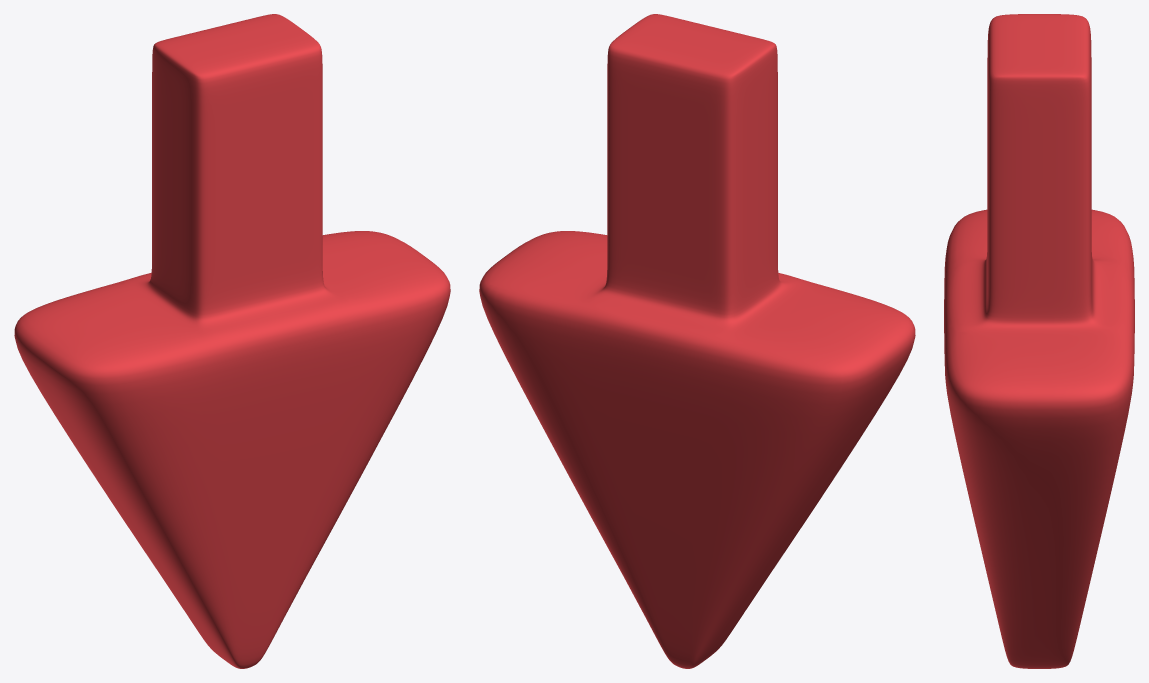
Rendered from Arrow_Visual Indicator.fbx.
3 renders of one model, left to right at view 1: azimuth 30°, elevation 25°; view 2: azimuth 150°, elevation 25°; view 3: azimuth 270°, elevation 25°, orthographic.
Parts seen in each view (by area): view 1: Plane; view 2: Plane; view 3: Plane.
Part boxes in pixels (x1,y1,x2,y2): Plane: (14, 14, 450, 668); Plane: (479, 14, 915, 668); Plane: (944, 14, 1134, 668).
Size of the model in its own units: 104 by 158 by 43.84.
